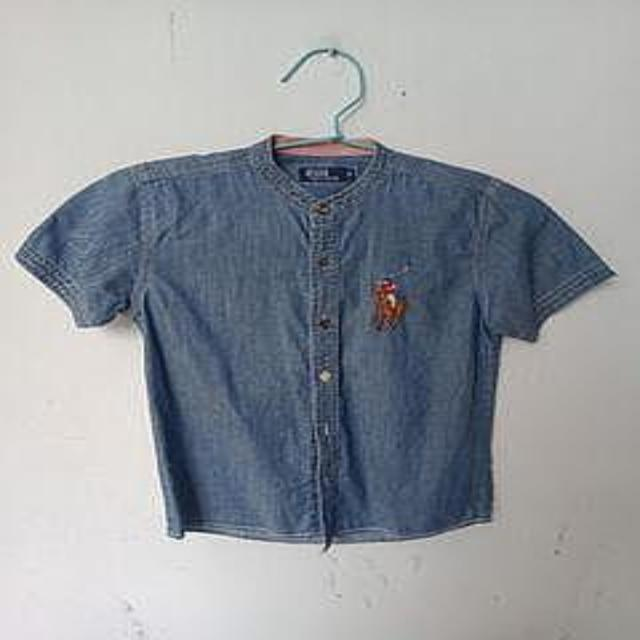SHIRT: (9, 133, 627, 558)
